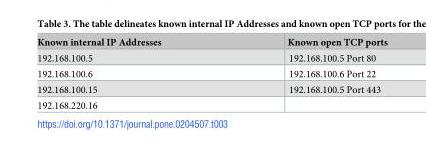table: (36, 36, 386, 110)
table column: (36, 36, 223, 110), (223, 36, 386, 110)
table column header: (36, 36, 386, 49)
table row: (36, 49, 386, 65), (36, 65, 386, 81), (36, 81, 386, 97), (36, 36, 386, 49), (36, 97, 386, 110)
